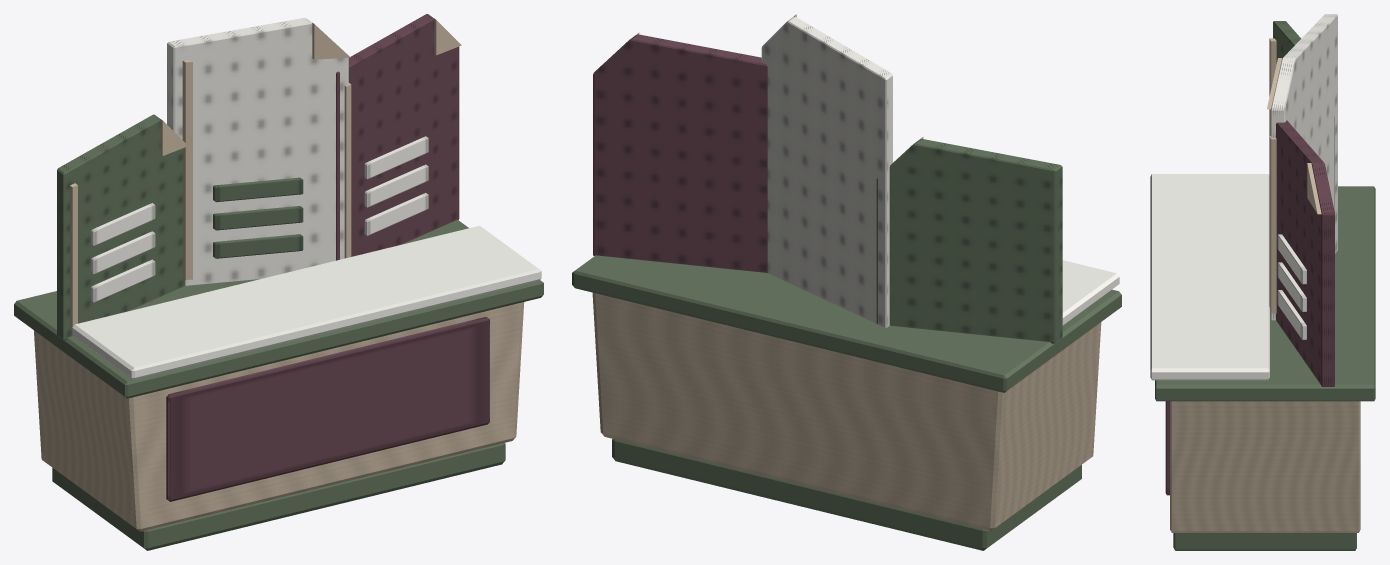
The model's file is balanced.glb.
3 views of the same model, side by side, from view 1: azimuth 30°, elevation 25°; view 2: azimuth 150°, elevation 25°; view 3: azimuth 270°, elevation 25° (orthographic). The views are drawn at different scales.
Parts seen in each view (by area): view 1: Ash counter, Porcelain centre leaf, Sample ledge, Plum outer leaf, Sage outer leaf; view 2: Ash counter, Plum outer leaf, Porcelain centre leaf, Sage outer leaf, Sample ledge; view 3: Ash counter, Sample ledge, Plum outer leaf, Porcelain centre leaf, Sage outer leaf.
Boxes of the visible parts, x1,y1,x2,y2 form: Ash counter: (14, 219, 543, 550); Porcelain centre leaf: (167, 18, 350, 285); Sample ledge: (72, 225, 541, 379); Plum outer leaf: (336, 14, 461, 260); Sage outer leaf: (57, 114, 185, 340); Ash counter: (572, 255, 1121, 550); Plum outer leaf: (593, 32, 767, 272); Porcelain centre leaf: (761, 14, 892, 327); Sage outer leaf: (876, 137, 1062, 343); Sample ledge: (1062, 260, 1119, 325); Ash counter: (1155, 186, 1375, 550); Sample ledge: (1150, 174, 1269, 380); Plum outer leaf: (1269, 120, 1334, 386); Porcelain centre leaf: (1267, 14, 1337, 320); Sage outer leaf: (1269, 21, 1334, 212).
Bounding box in the file's own units: 2.38 × 2.35 × 1.12.
1 material, 1 textured.
